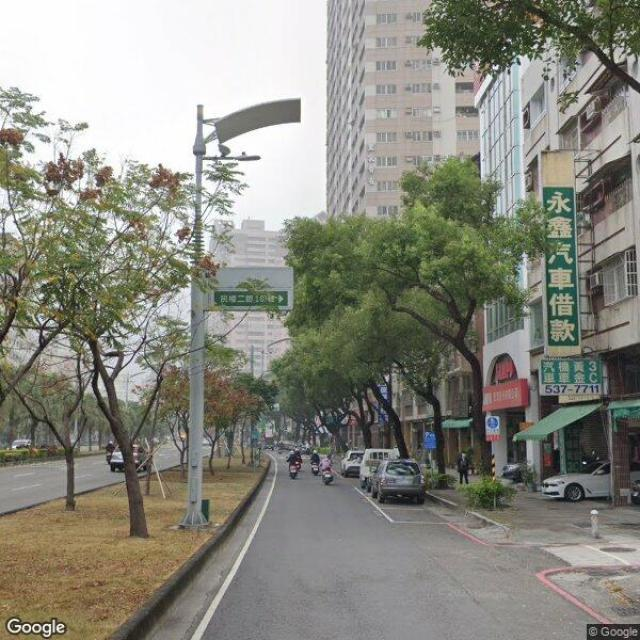Legalparking: (341, 448, 424, 503), (543, 463, 608, 500)
illegalparking: (287, 450, 303, 470), (310, 452, 325, 472), (108, 450, 123, 469), (134, 453, 149, 468)
